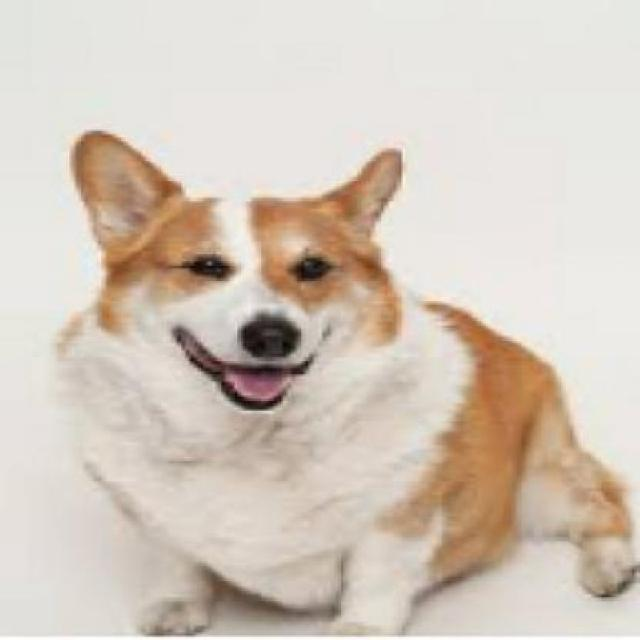Dog: (52, 120, 638, 638)
